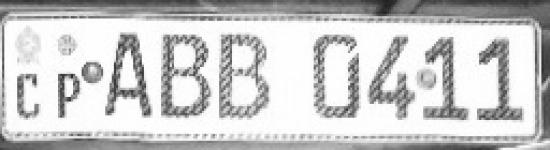0: (308, 29, 364, 120)
1: (421, 31, 474, 126), (476, 32, 527, 125)
4: (367, 31, 418, 121)
A: (104, 28, 154, 122)
B: (216, 30, 274, 123), (159, 31, 212, 122)
C: (11, 66, 45, 123)
P: (54, 68, 81, 122)
